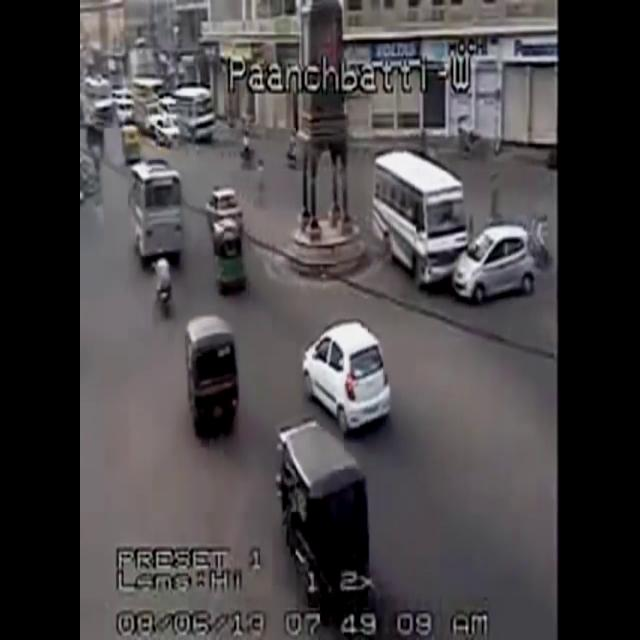accident: (371, 150, 535, 306)
non-accident: (274, 321, 392, 611), (129, 160, 249, 318), (84, 75, 218, 161)
